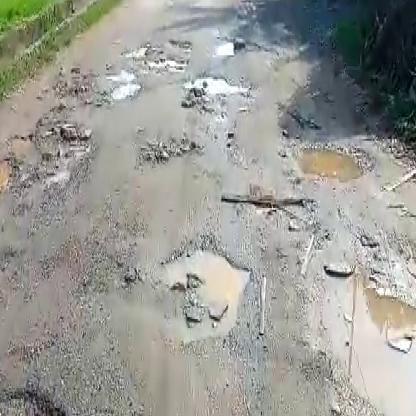pothole: (309, 258, 416, 416), (159, 241, 249, 336), (0, 120, 95, 192), (292, 135, 373, 184), (225, 192, 315, 221), (125, 36, 191, 70), (138, 134, 200, 164), (96, 70, 144, 101), (185, 74, 249, 97), (0, 152, 21, 198), (217, 39, 237, 60)
